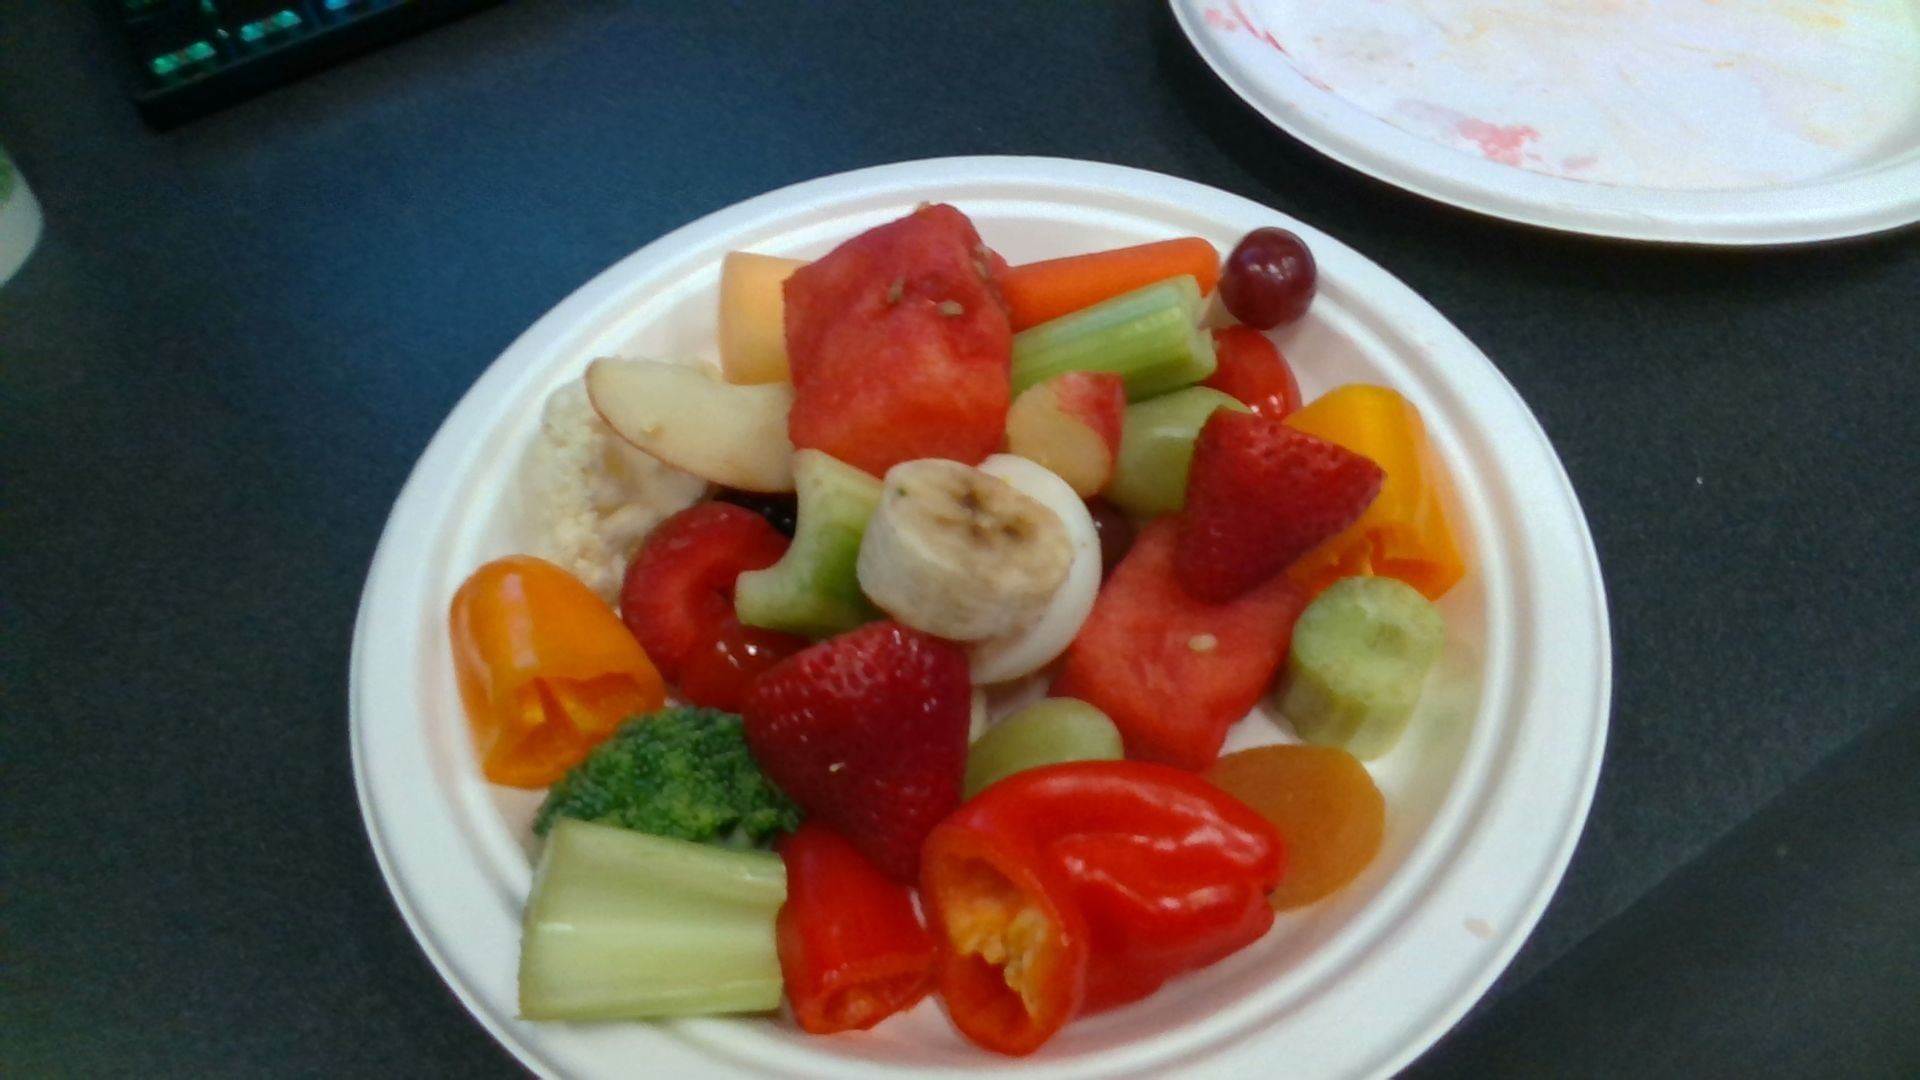apple: (589, 357, 799, 491), (1005, 371, 1127, 493)
apricot: (1217, 746, 1385, 903)
banana: (858, 460, 1072, 640), (860, 458, 1064, 641)
bell_pepper: (922, 760, 1284, 1054), (450, 556, 662, 789), (1275, 388, 1462, 595), (765, 825, 928, 1031)
broccoli: (531, 708, 782, 855)
cantalope: (720, 248, 808, 385)
carrot: (1005, 236, 1217, 330)
cauliflower: (535, 375, 704, 596)
celery: (520, 820, 785, 1013), (737, 450, 889, 626), (1287, 576, 1435, 753), (1009, 276, 1217, 396)
grape_green: (972, 696, 1125, 806)
grape_purple: (1222, 229, 1315, 324)
melon: (1052, 513, 1294, 756), (787, 204, 1005, 465)
strawberry: (740, 621, 969, 884), (1182, 407, 1379, 597)
